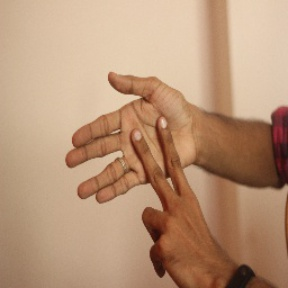N: (62, 67, 224, 256)
